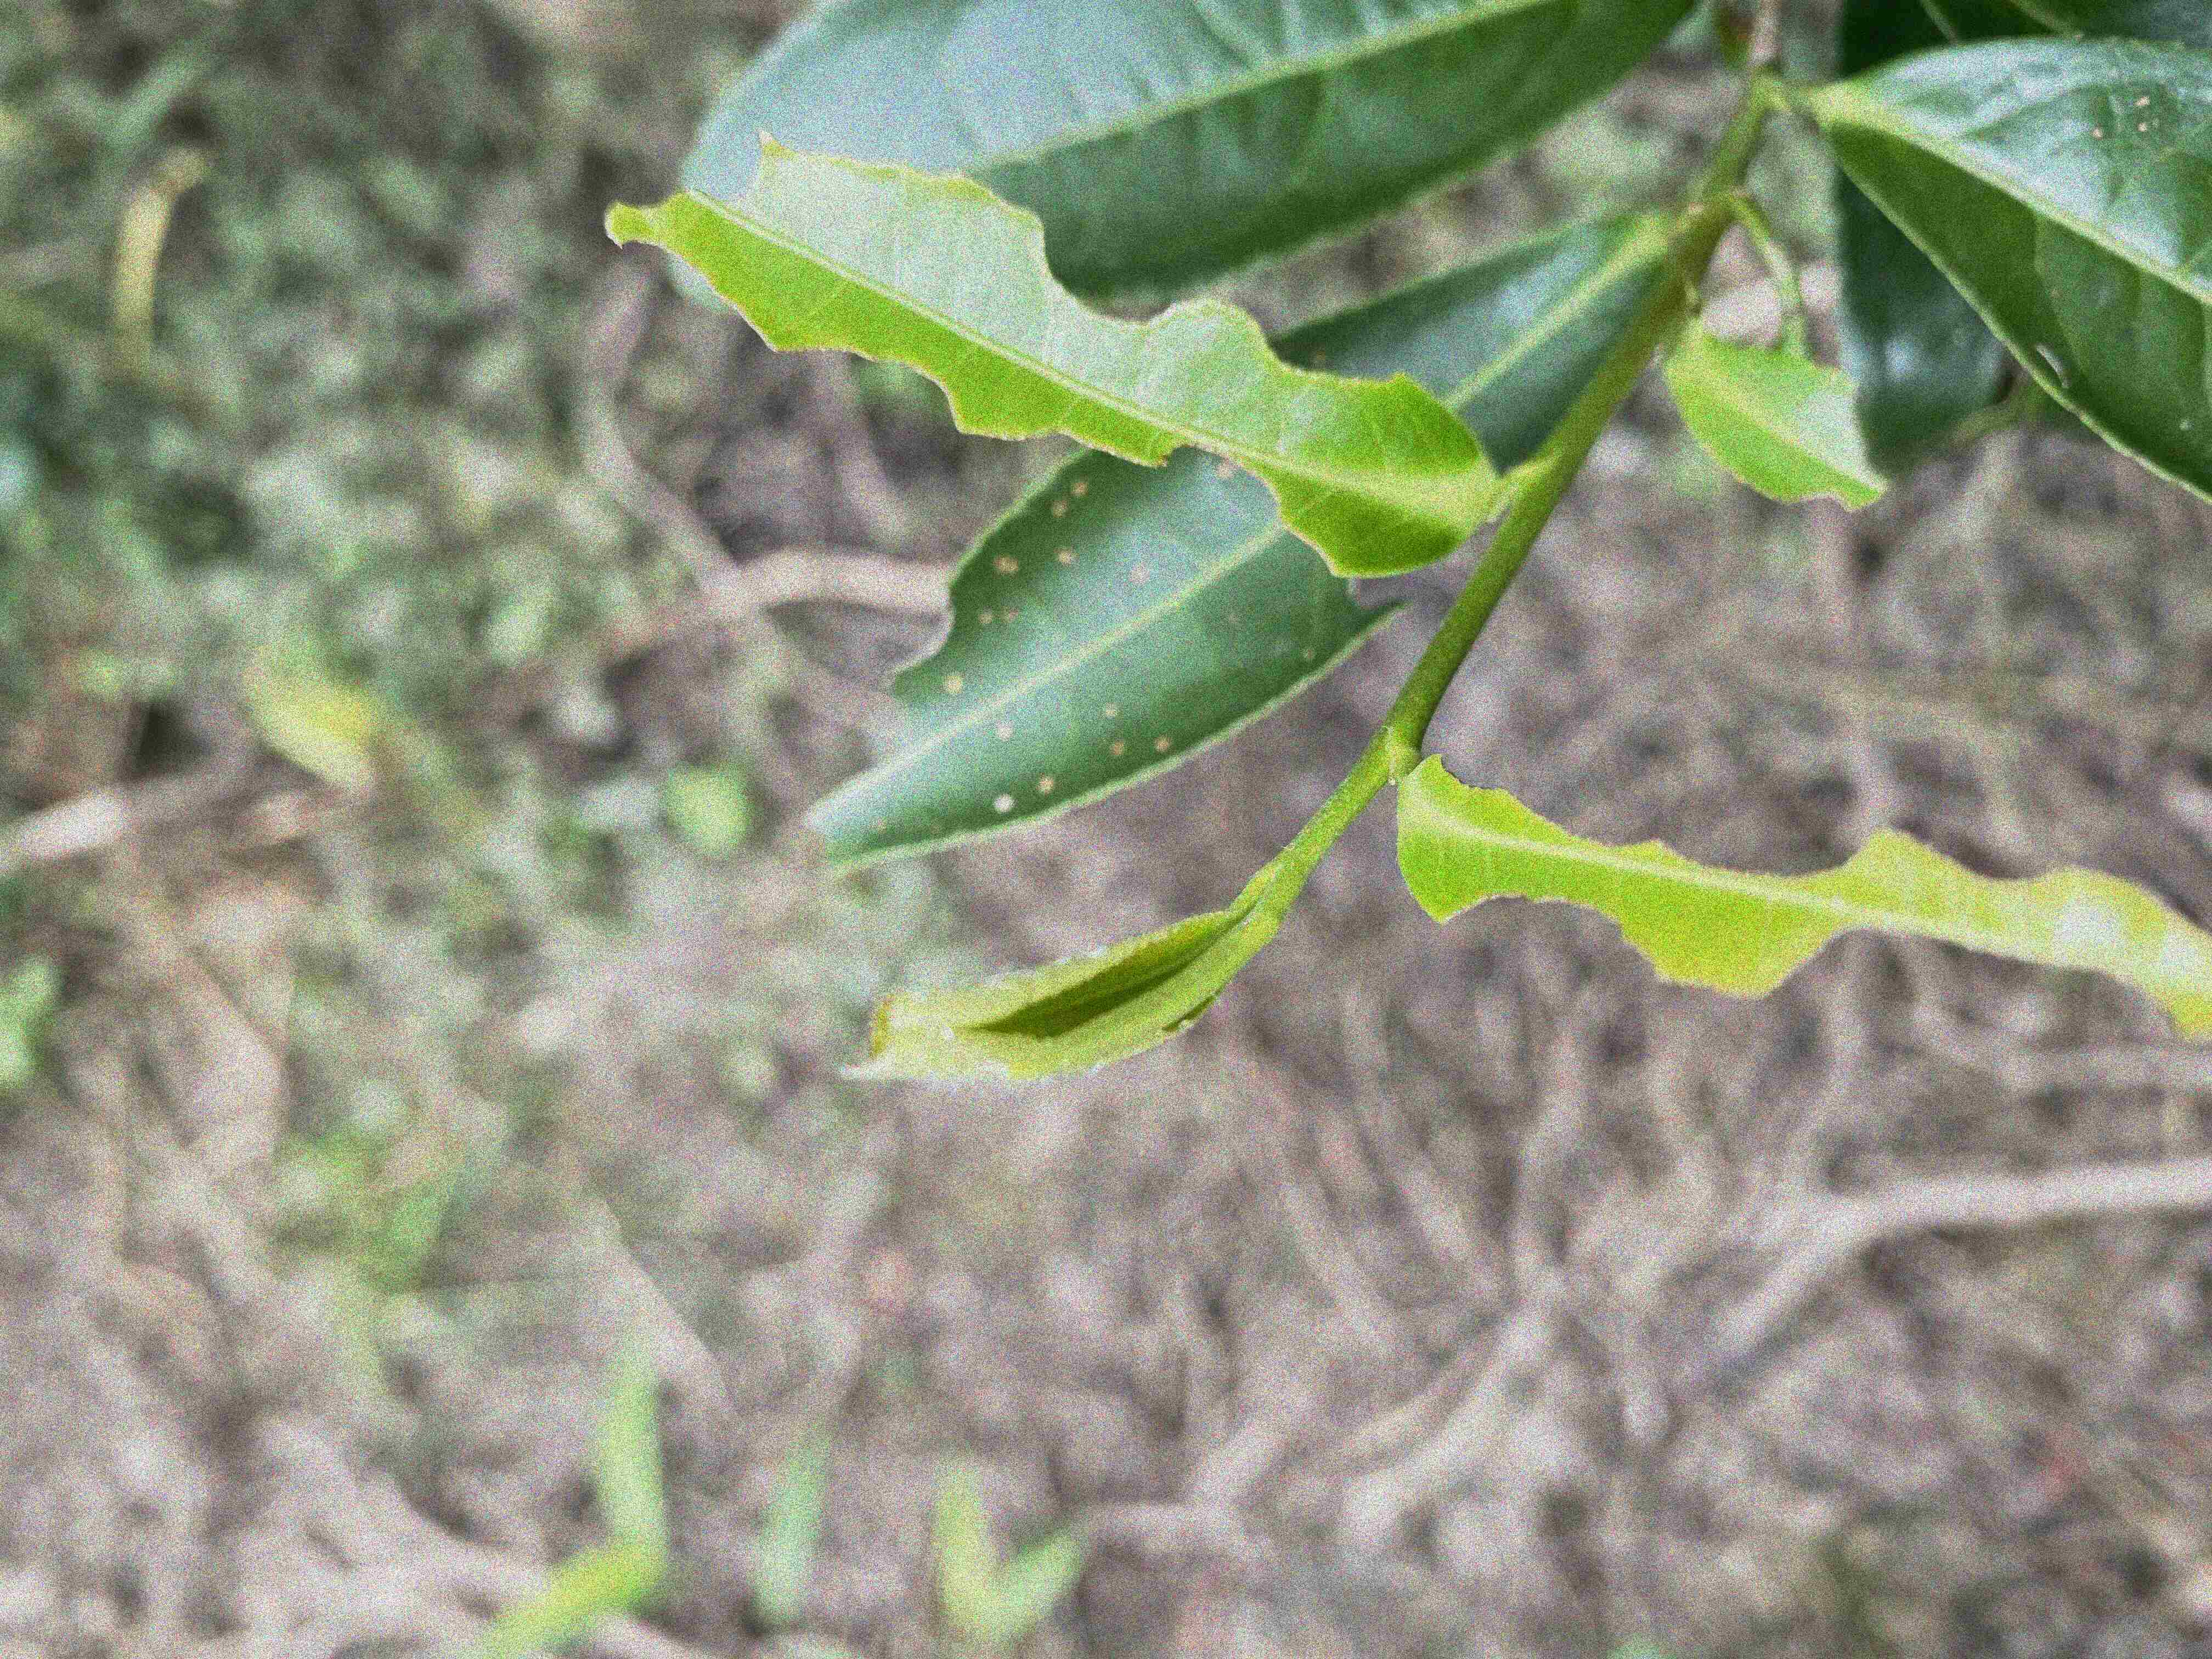chihuo_high: (594, 129, 1501, 580), (1402, 749, 2209, 1051), (1653, 340, 1892, 514)
